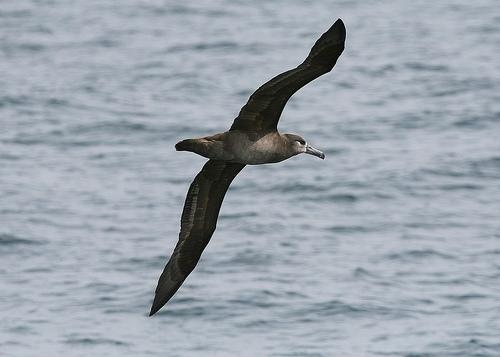bird: (146, 16, 347, 320)
